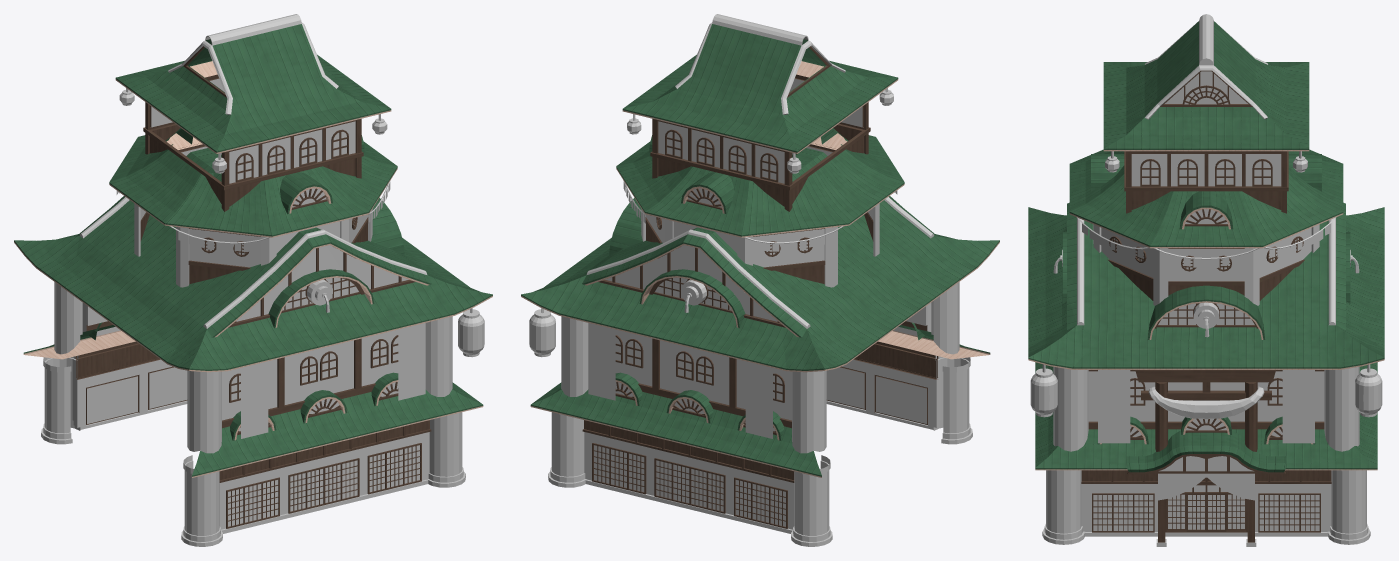
File: REDUCTION_SM_ENV_KNVLLG_CommonBuilding_J_3.mo.fbx
The picture shows the model from 3 angles, left to right: view 1: azimuth 30°, elevation 25°; view 2: azimuth 150°, elevation 25°; view 3: azimuth 270°, elevation 25°; orthographic projection.
Parts seen in each view (by area): view 1: REDUCTION_SM_ENV_KNVLLG_CommonBuilding_J_3.mo; view 2: REDUCTION_SM_ENV_KNVLLG_CommonBuilding_J_3.mo; view 3: REDUCTION_SM_ENV_KNVLLG_CommonBuilding_J_3.mo.
Part boxes in pixels (x1,y1,x2,y2): REDUCTION_SM_ENV_KNVLLG_CommonBuilding_J_3.mo: (14,14,492,546); REDUCTION_SM_ENV_KNVLLG_CommonBuilding_J_3.mo: (521,14,999,546); REDUCTION_SM_ENV_KNVLLG_CommonBuilding_J_3.mo: (1028,14,1384,546).
Size of the model in its own units: 25 by 34 by 25.
